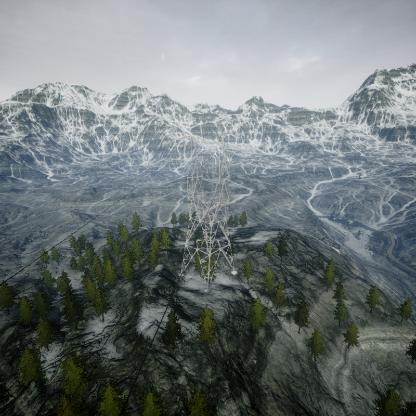tower: (176, 135, 240, 286)
